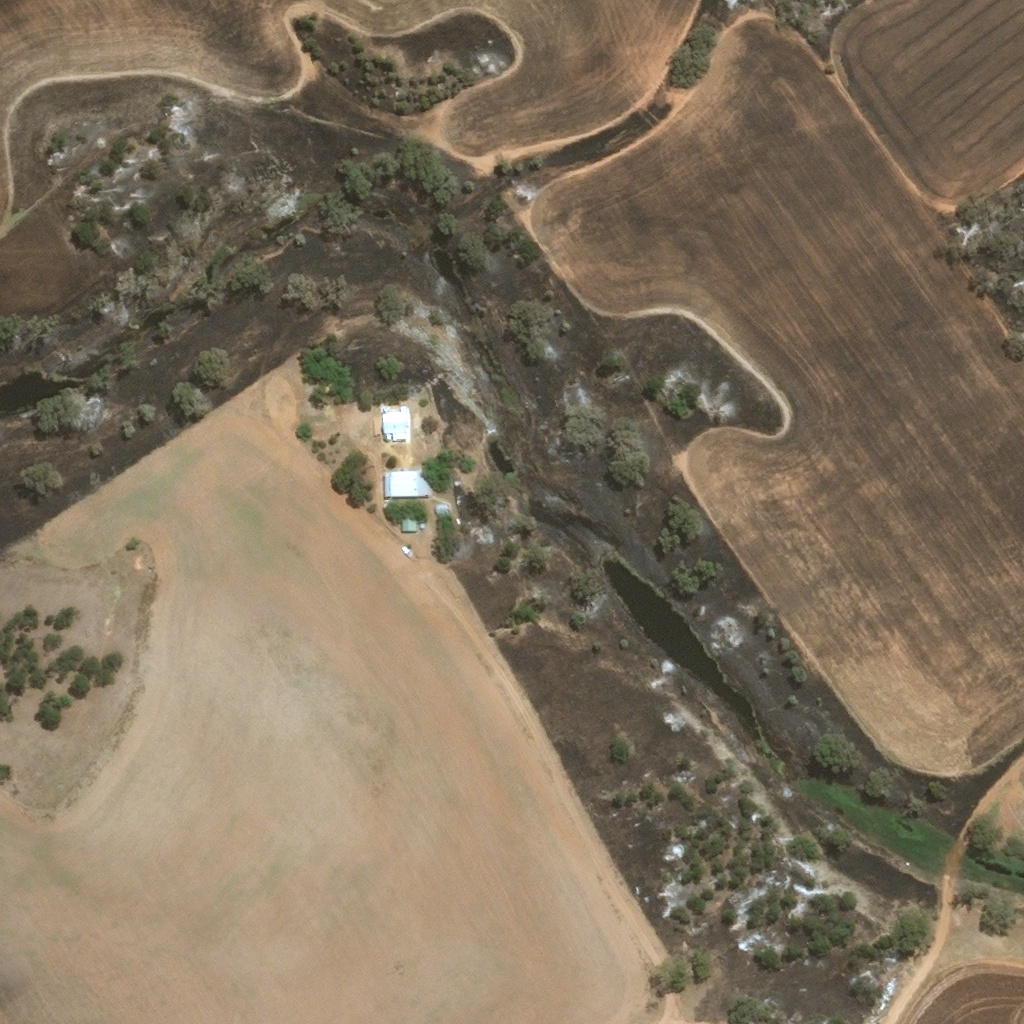0 no-damage: (391, 464, 431, 496), (382, 404, 410, 442), (399, 502, 417, 530), (382, 469, 391, 495), (434, 501, 449, 512)
